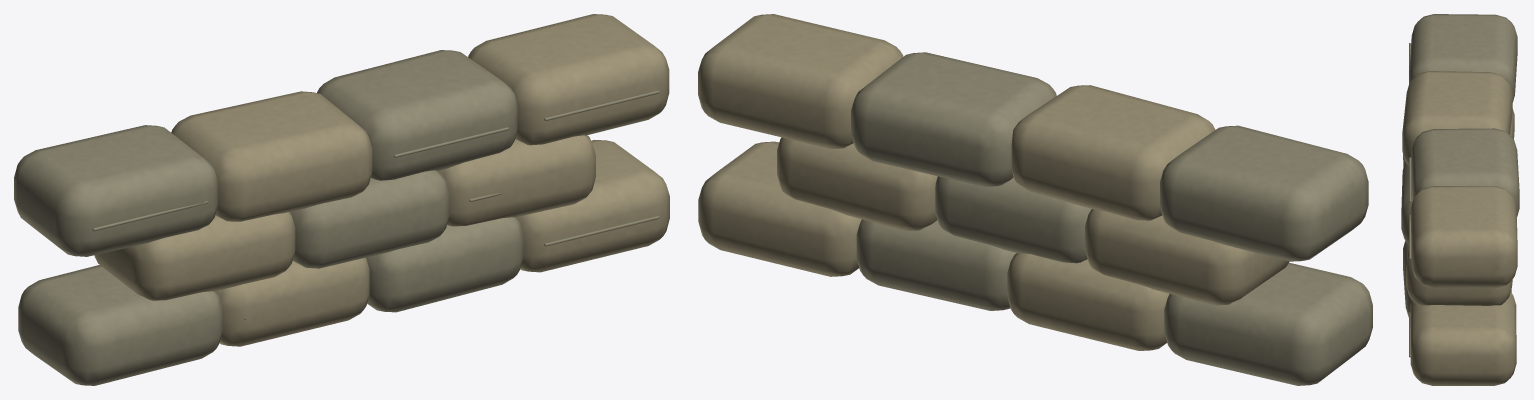
File: sandbag-wall.glb
The picture shows the model from 3 angles, left to right: view 1: azimuth 30°, elevation 25°; view 2: azimuth 150°, elevation 25°; view 3: azimuth 270°, elevation 25°; orthographic projection. The views are drawn at different scales.
Visible parts, largest first — view 1: sandbag-wall__body; view 2: sandbag-wall__body; view 3: sandbag-wall__body.
Part boxes in pixels (x1=…): sandbag-wall__body: x1=14, y1=14, x2=669, y2=385; sandbag-wall__body: x1=698, y1=14, x2=1372, y2=385; sandbag-wall__body: x1=1401, y1=14, x2=1519, y2=385.
Size of the model in its own units: 1.86 by 0.581 by 0.4018.
2 materials, 2 textured.
